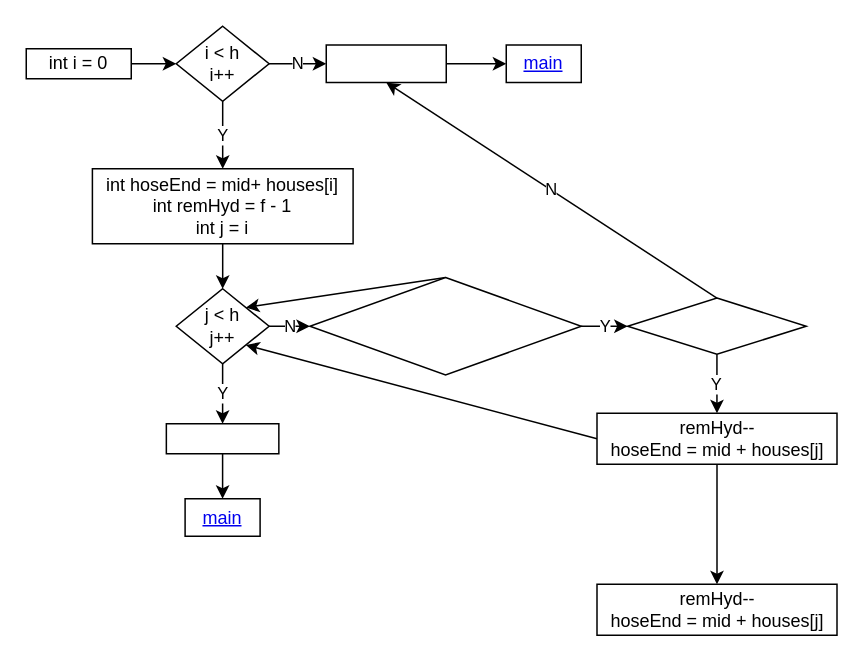
Image size: 864x662. Some labels were removed from this diagram. Here are the shapes that lost their labels. From the top down, the centre of each, then its label:
the point at 385,63: return false
the point at 444,325: houses[j] - hoseEnd > mid
the point at 716,325: remHyd > 0
the point at 222,438: return true
